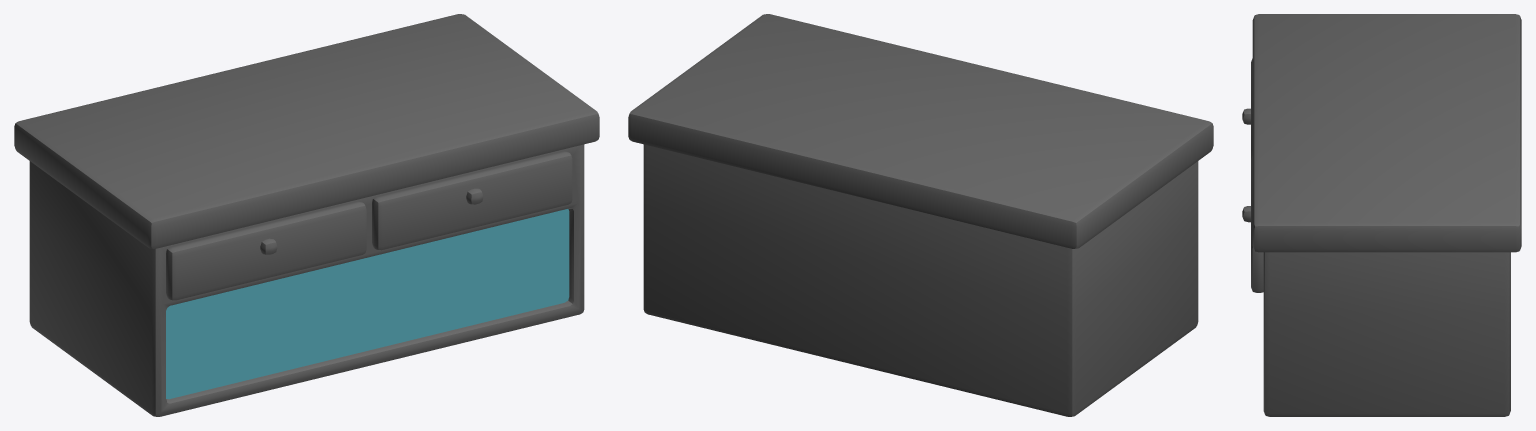
The model's file is SM_stand_bathroom.fbx.
The picture shows the model from 3 angles, left to right: view 1: azimuth 30°, elevation 25°; view 2: azimuth 150°, elevation 25°; view 3: azimuth 270°, elevation 25°; orthographic projection. The views are drawn at different scales.
Parts seen in each view (by area): view 1: Box397; view 2: Box397; view 3: Box397.
Part boxes in pixels (left/top/right/bottom): Box397: left=14, top=14, right=599, bottom=416; Box397: left=628, top=14, right=1213, bottom=416; Box397: left=1242, top=14, right=1521, bottom=416.
Size of the model in its own units: 87.34 by 37.87 by 48.33.
